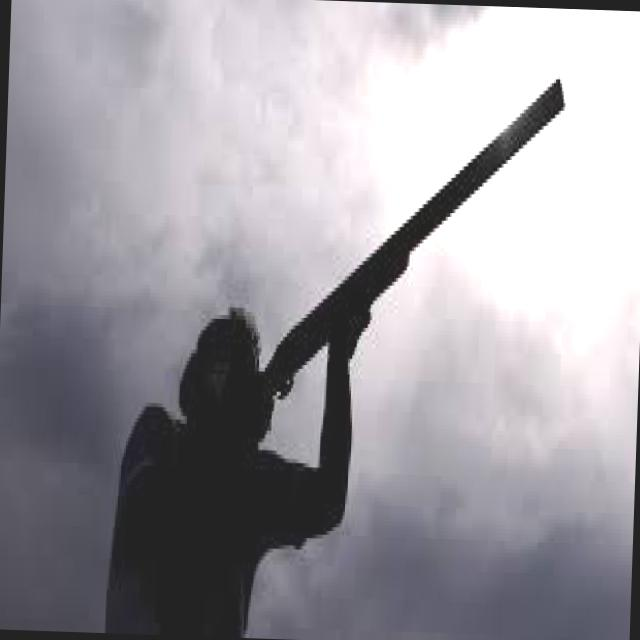long weapon: (229, 61, 581, 453)
